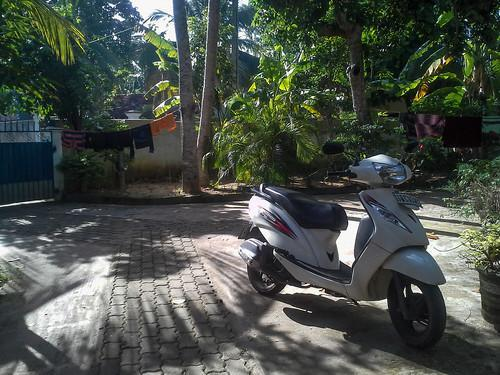motorbike: (238, 142, 446, 350)
